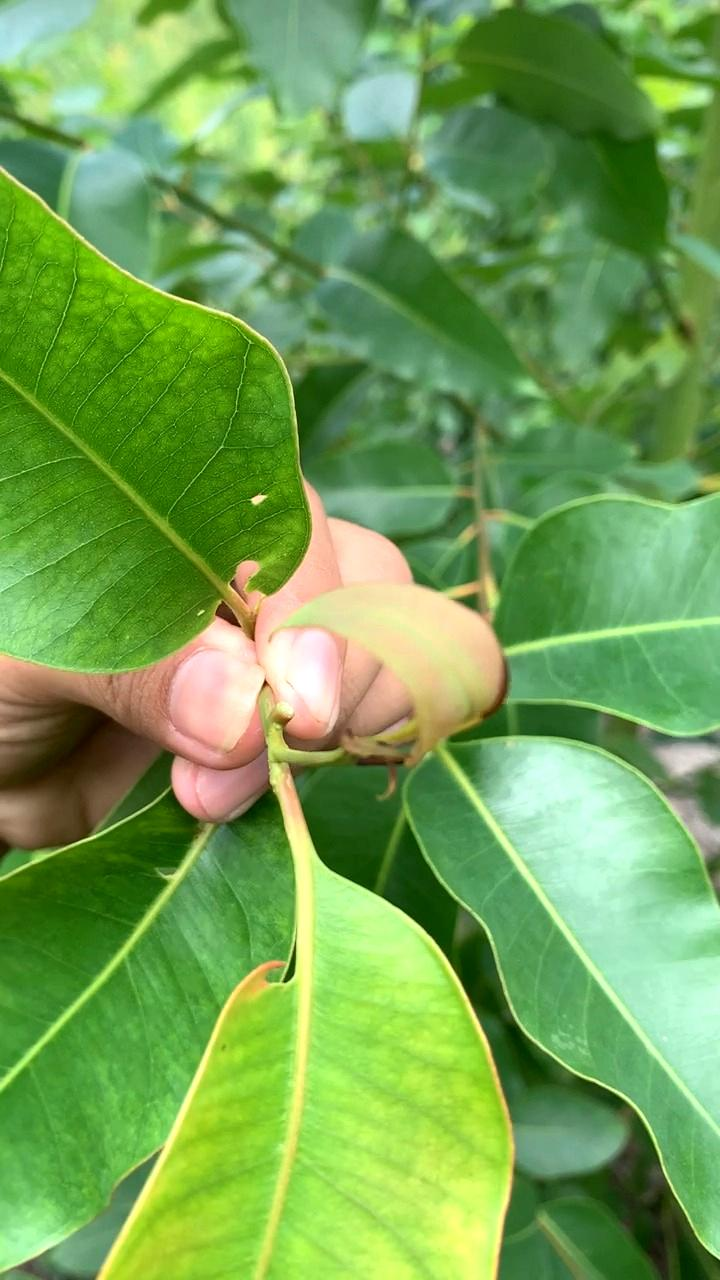Helopeltis-Withered Sprout: (275, 588, 505, 769)
